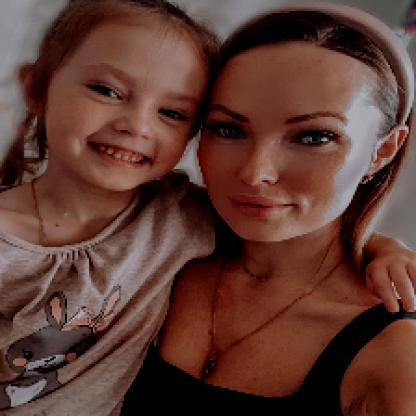child: (1, 1, 222, 415)
